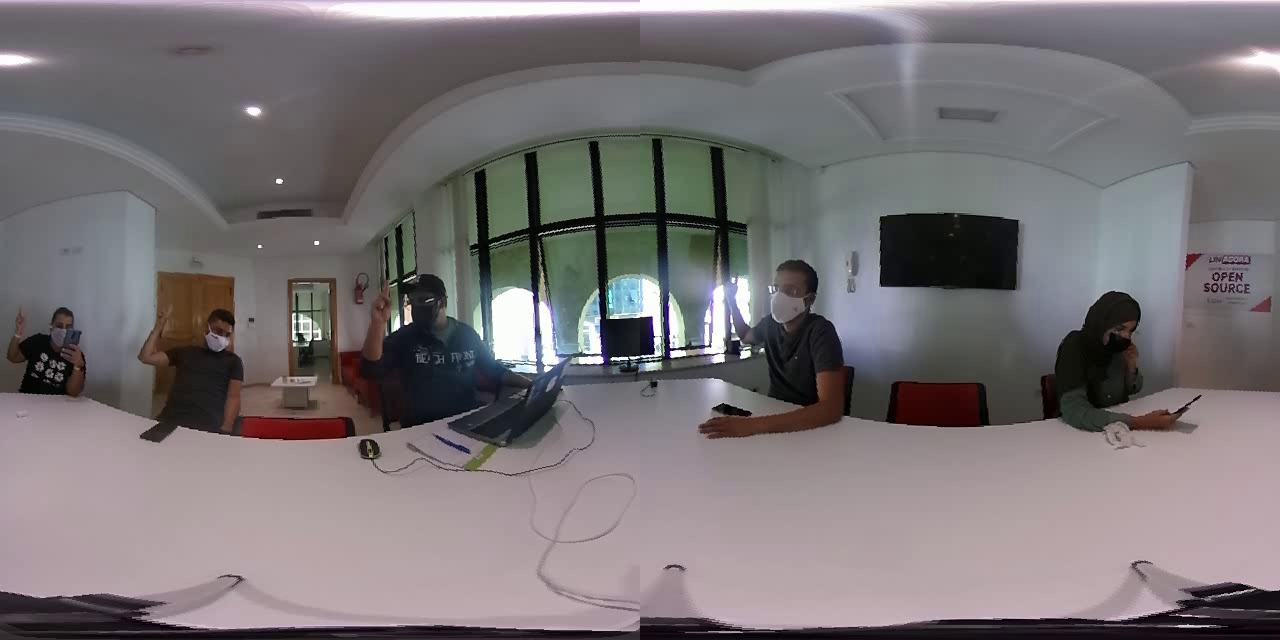person: (695, 242, 856, 437), (346, 256, 503, 432), (1044, 278, 1185, 427), (126, 289, 253, 441), (3, 292, 99, 400)
speaking: (352, 269, 402, 385), (713, 259, 758, 360), (133, 294, 176, 383), (6, 293, 34, 366)
